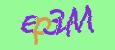3: (43, 9, 63, 34)
M: (66, 5, 94, 36)
e: (20, 15, 38, 32)
p: (33, 17, 50, 44)
v: (56, 16, 73, 34)
